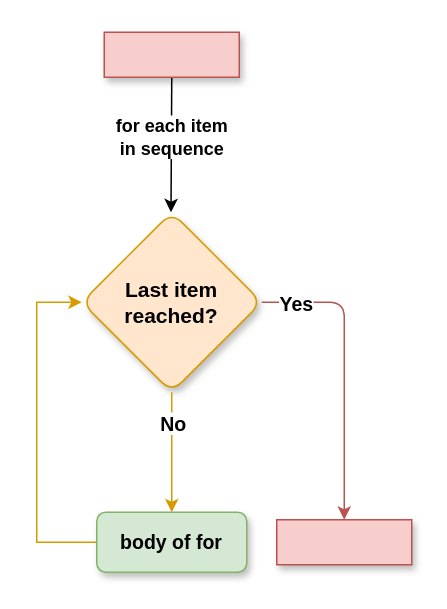
This 447x609 diagram has some shape labels left out. Here are the shapes that lost their labels. From the top down, the centre of each, then its label:
At point (172, 56): "START".
At point (345, 543): "EXIT LOOP".
